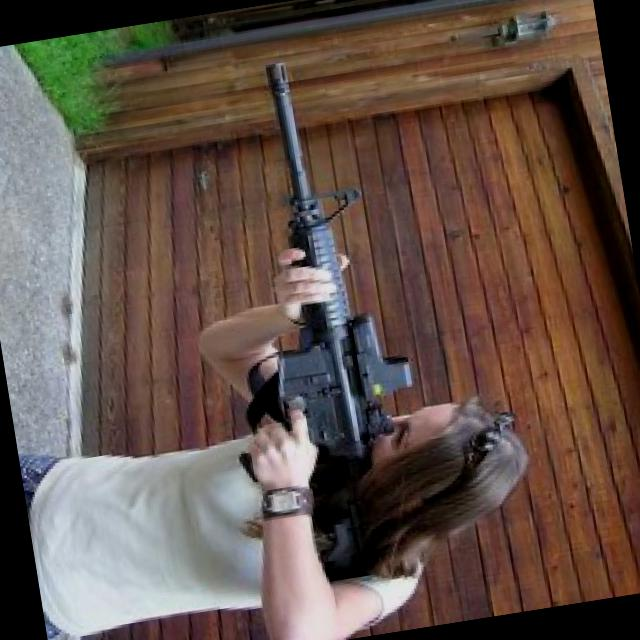long weapon: (211, 58, 406, 492)
